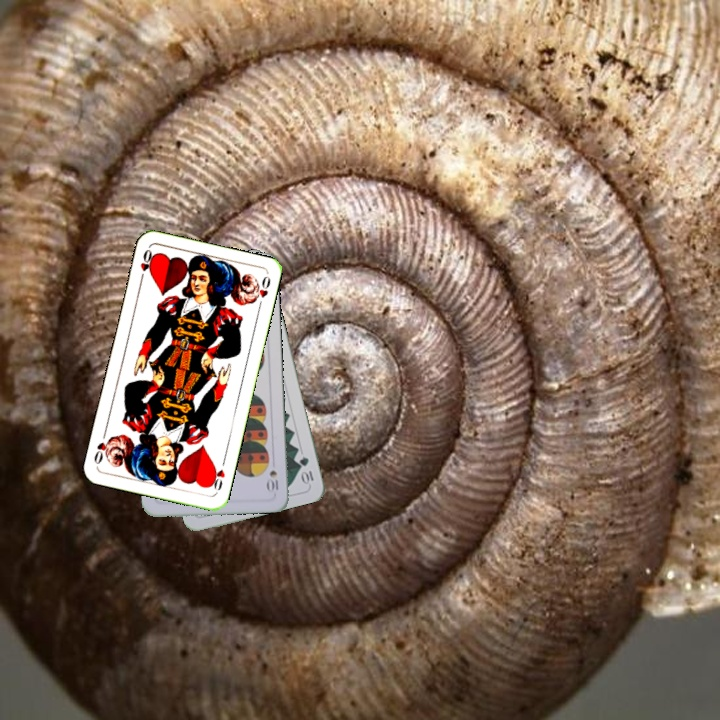G10: (295, 453, 316, 487)
HO: (206, 455, 228, 493), (136, 245, 157, 284)
S10: (264, 466, 281, 493)
